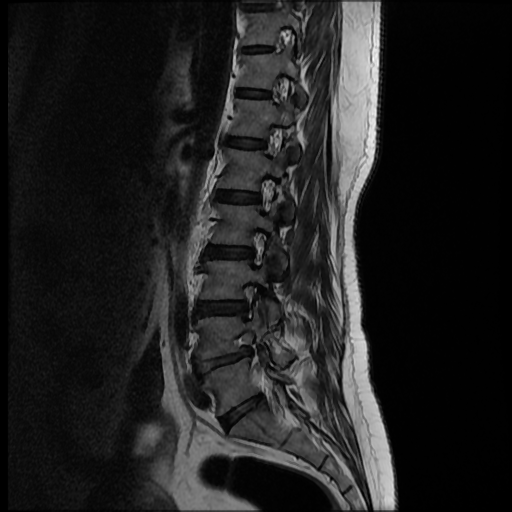LFS0: (235, 223, 276, 271), (247, 166, 283, 220)
LFS1: (229, 272, 265, 323)
